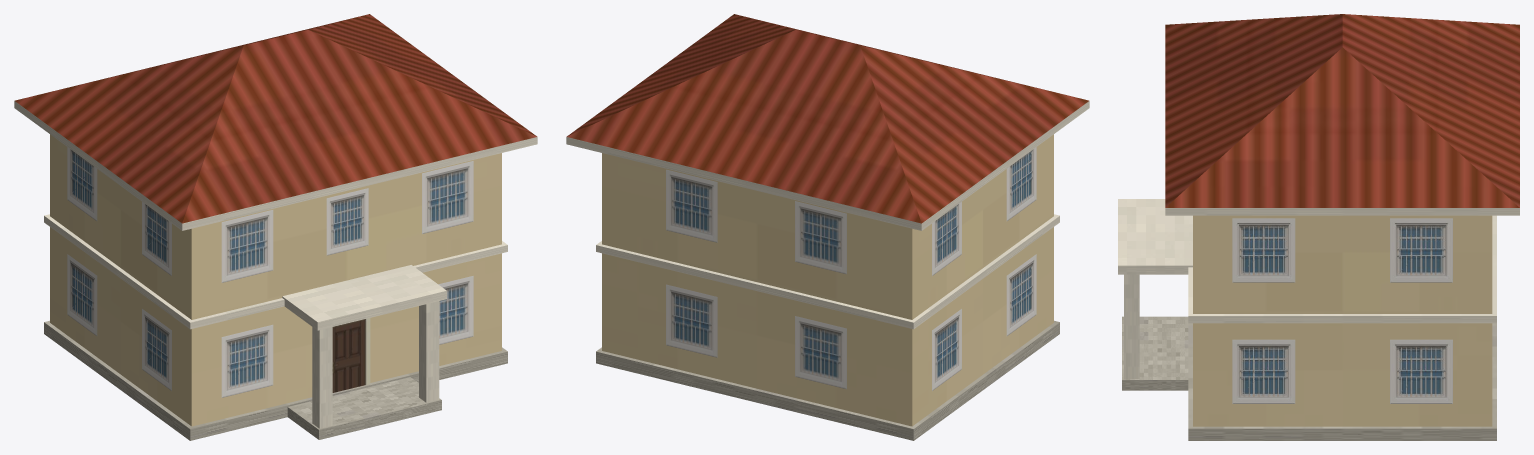
File: house2-cream-far.glb
3 renders of one model, left to right at view 1: azimuth 30°, elevation 25°; view 2: azimuth 150°, elevation 25°; view 3: azimuth 270°, elevation 25°, orthographic. The views are drawn at different scales.
Visible parts, largest first — view 1: house2-cream; view 2: house2-cream; view 3: house2-cream.
Boxes of the visible parts, <box> form: house2-cream: <box>14,14,537,440</box>; house2-cream: <box>566,14,1089,440</box>; house2-cream: <box>1118,14,1519,440</box>.
Size of the model in its own units: 11 by 9.2 by 10.2.
1 material, 1 textured.
